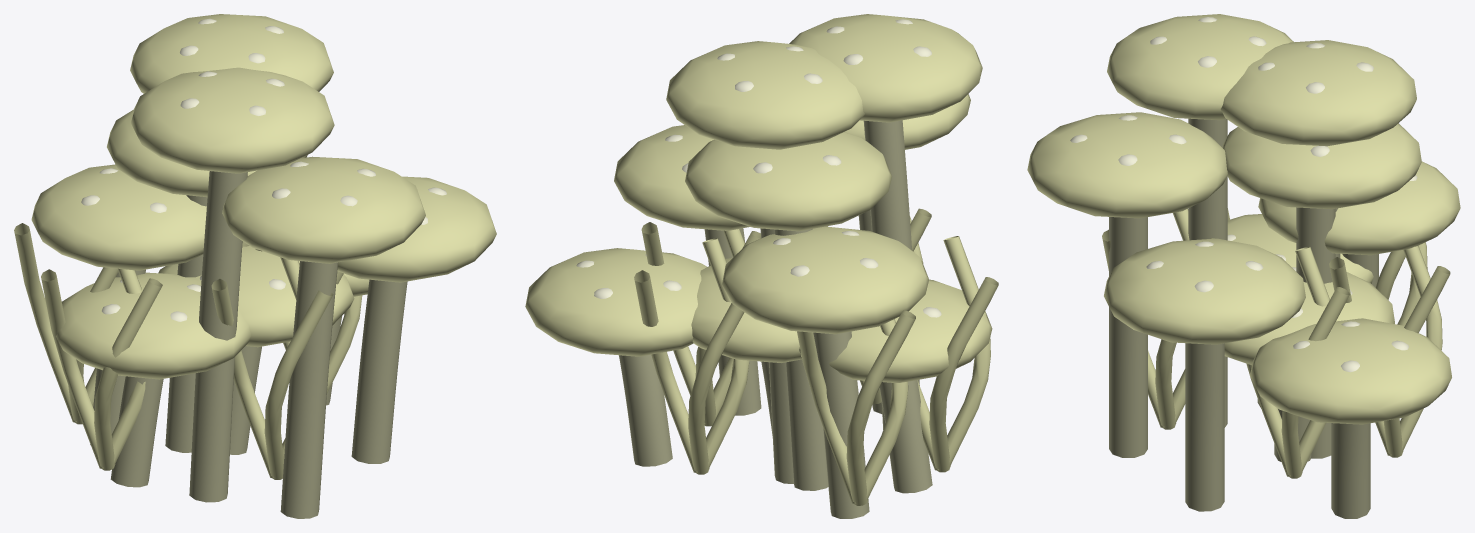
File: bio_spore_fungus_19_far.glb
3 views of the same model, side by side, from view 1: azimuth 30°, elevation 25°; view 2: azimuth 150°, elevation 25°; view 3: azimuth 270°, elevation 25° (orthographic).
Parts seen in each view (by area): view 1: Thick umbrella cap.007, Thick umbrella cap.002, Thick umbrella cap.001, Thick umbrella cap.004, Curved stipe.007, Thick umbrella cap.003, Curved stipe.002, Thick umbrella cap.005, Curved stipe.005, Spiral filament.012, Spiral filament.006, Thick umbrella cap (+7 smaller); view 2: Thick umbrella cap.001, Thick umbrella cap.003, Thick umbrella cap.006, Thick umbrella cap.008, Thick umbrella cap.007, Spiral filament.009, Spiral filament.003, Thick umbrella cap.004, Thick umbrella cap.005, Spiral filament.012, Thick umbrella cap, Curved stipe.008 (+9 smaller); view 3: Thick umbrella cap.005, Thick umbrella cap.002, Thick umbrella cap.008, Thick umbrella cap.003, Thick umbrella cap.007, Thick umbrella cap.006, Thick umbrella cap.001, Curved stipe.002, Curved stipe.005, Spiral filament, Spiral filament.009, Curved stipe.008 (+12 smaller).
Part boxes in pixels (x1,y1,x2,y2): Thick umbrella cap.007: [131, 67, 334, 173]; Thick umbrella cap.002: [222, 156, 425, 263]; Thick umbrella cap.001: [31, 164, 206, 270]; Thick umbrella cap.004: [56, 272, 251, 379]; Curved stipe.007: [189, 171, 247, 502]; Thick umbrella cap.003: [130, 14, 333, 93]; Curved stipe.002: [280, 261, 338, 518]; Thick umbrella cap.005: [337, 176, 496, 282]; Curved stipe.005: [351, 279, 407, 463]; Spiral filament.012: [41, 268, 162, 470]; Spiral filament.006: [211, 257, 333, 479]; Thick umbrella cap: [158, 246, 354, 347]; Thick umbrella cap.001: [722, 226, 929, 334]; Thick umbrella cap.003: [666, 41, 864, 149]; Thick umbrella cap.006: [685, 132, 891, 231]; Thick umbrella cap.008: [525, 248, 706, 356]; Thick umbrella cap.007: [789, 14, 982, 122]; Spiral filament.009: [634, 238, 749, 474]; Spiral filament.003: [797, 310, 915, 505]; Thick umbrella cap.004: [799, 279, 992, 382]; Thick umbrella cap.005: [614, 125, 749, 230]; Spiral filament.012: [917, 236, 998, 472]; Thick umbrella cap: [691, 258, 801, 362]; Curved stipe.008: [619, 354, 672, 466]; Thick umbrella cap.005: [1104, 238, 1305, 344]; Thick umbrella cap.002: [1027, 112, 1227, 218]; Thick umbrella cap.008: [1250, 318, 1451, 424]; Thick umbrella cap.003: [1220, 40, 1416, 146]; Thick umbrella cap.007: [1107, 14, 1293, 120]; Thick umbrella cap.006: [1222, 123, 1421, 209]; Thick umbrella cap.001: [1258, 161, 1460, 255]; Curved stipe.002: [1109, 217, 1147, 457]; Curved stipe.005: [1185, 343, 1224, 511]; Spiral filament: [1246, 246, 1349, 478]; Spiral filament.009: [1329, 245, 1450, 457]; Curved stipe.008: [1331, 423, 1370, 518].
Size of the model in its own units: 2.08 by 1.92 by 1.88.
